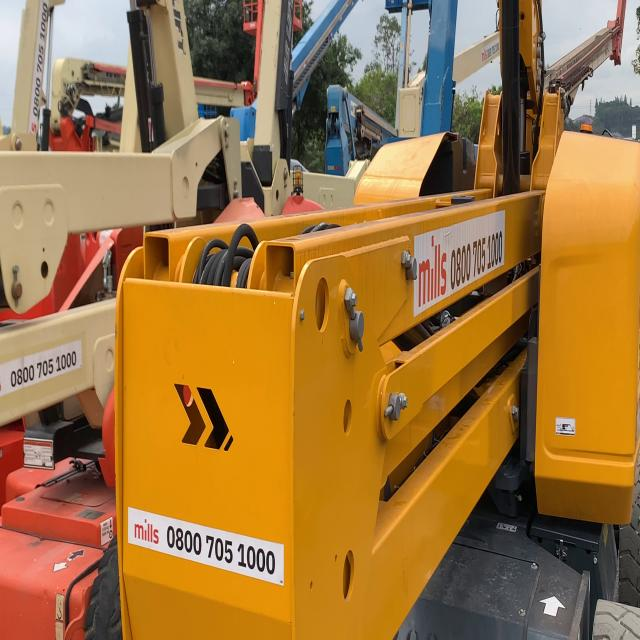Adesivo Longo: (126, 504, 285, 589), (412, 207, 506, 321)
